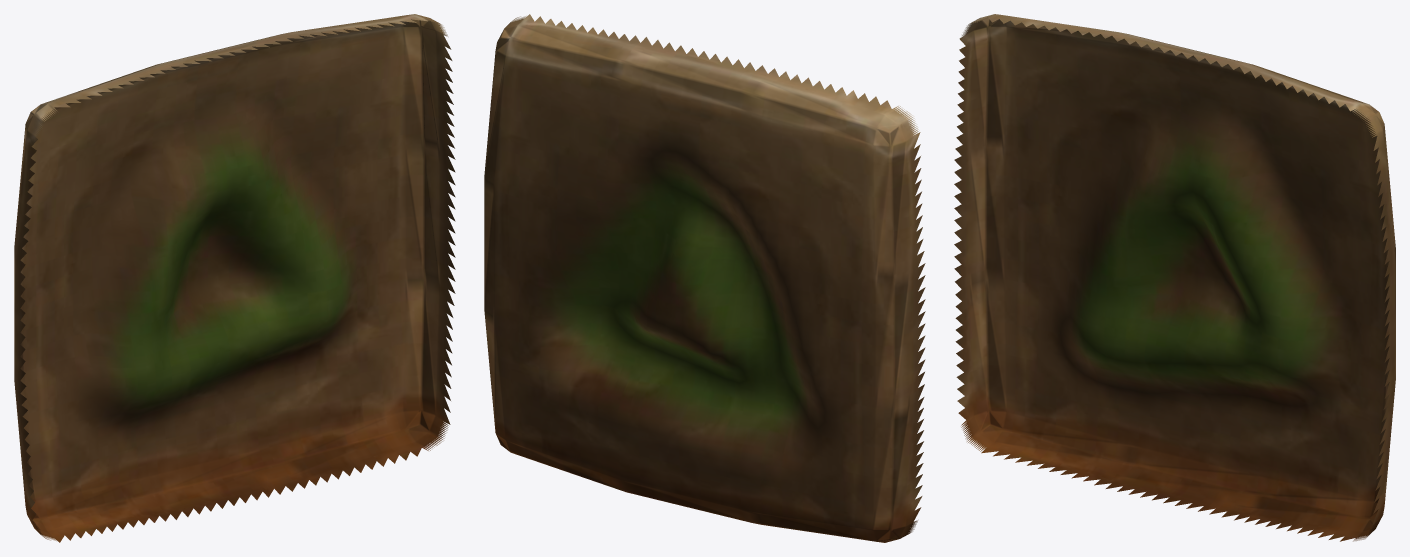
Rendered from triangleHint.glb.
3 views of the same model, side by side, from view 1: azimuth 30°, elevation 25°; view 2: azimuth 150°, elevation 25°; view 3: azimuth 330°, elevation 25° (orthographic).
Visible parts, largest first — view 1: Cube; view 2: Cube; view 3: Cube.
Part boxes in pixels (x1,y1,x2,y2): Cube: (14,14,455,542); Cube: (484,14,925,542); Cube: (954,14,1395,541).
Size of the model in its own units: 0.9992 by 0.9992 by 0.1525.
Materials: 1 (1 with a texture image).
